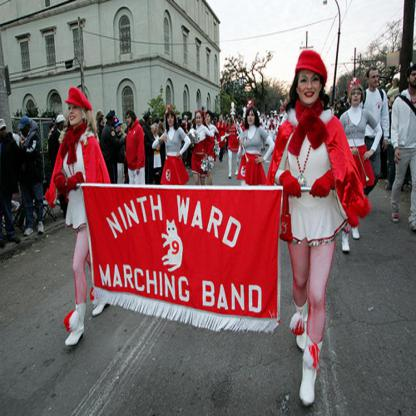face: (299, 70, 321, 105), (69, 102, 83, 126), (353, 90, 363, 106), (371, 71, 380, 88), (248, 113, 255, 126), (21, 128, 29, 139), (410, 71, 415, 88), (1, 127, 7, 140), (169, 115, 176, 126), (197, 114, 203, 126), (127, 115, 132, 126), (60, 121, 65, 131), (207, 115, 212, 123), (118, 124, 123, 131), (112, 120, 116, 127), (149, 118, 152, 126), (232, 116, 235, 123), (220, 116, 223, 122), (103, 117, 105, 125), (271, 114, 274, 118)
